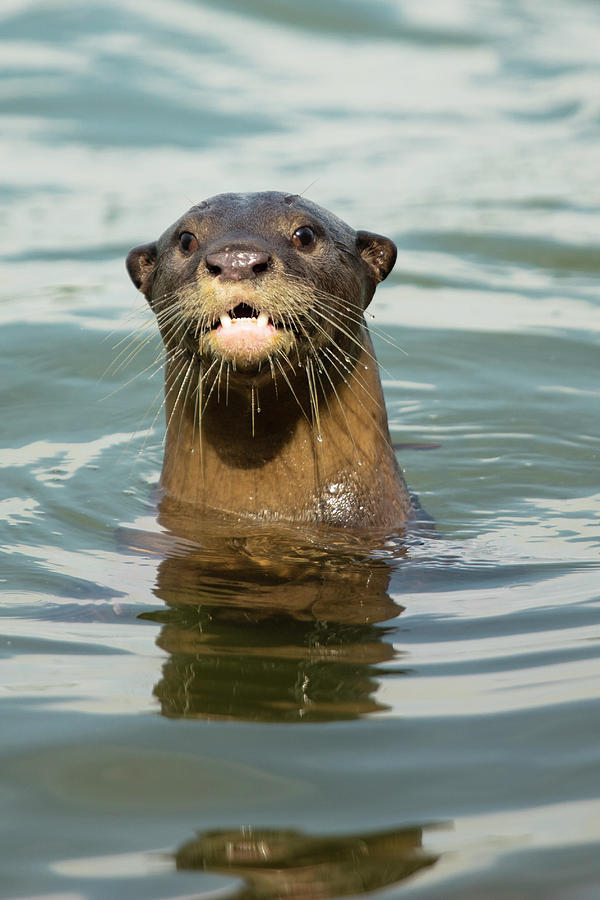otter: (117, 174, 433, 539)
